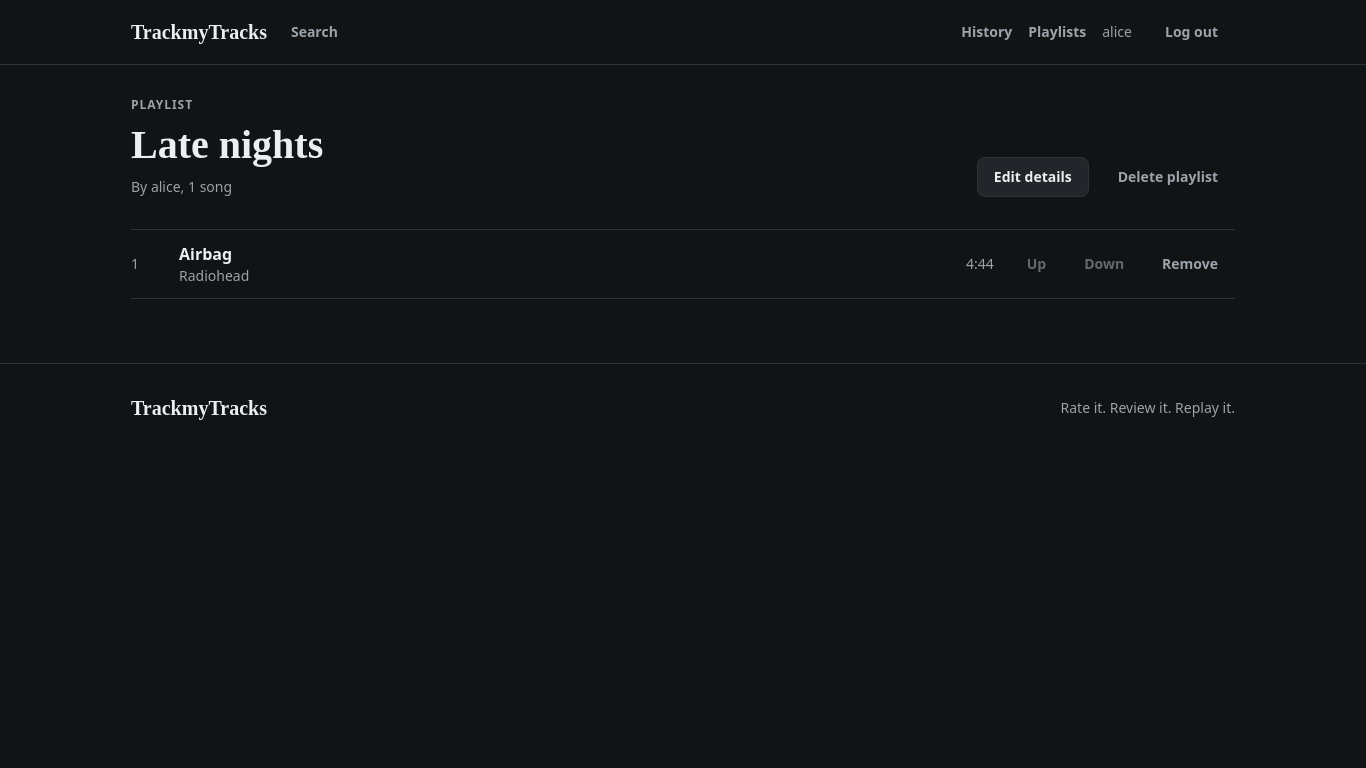
Test case: playlist page › edits the playlist details
Click the button "Edit details". click: (1033, 177)
box: [977,157,1089,197]
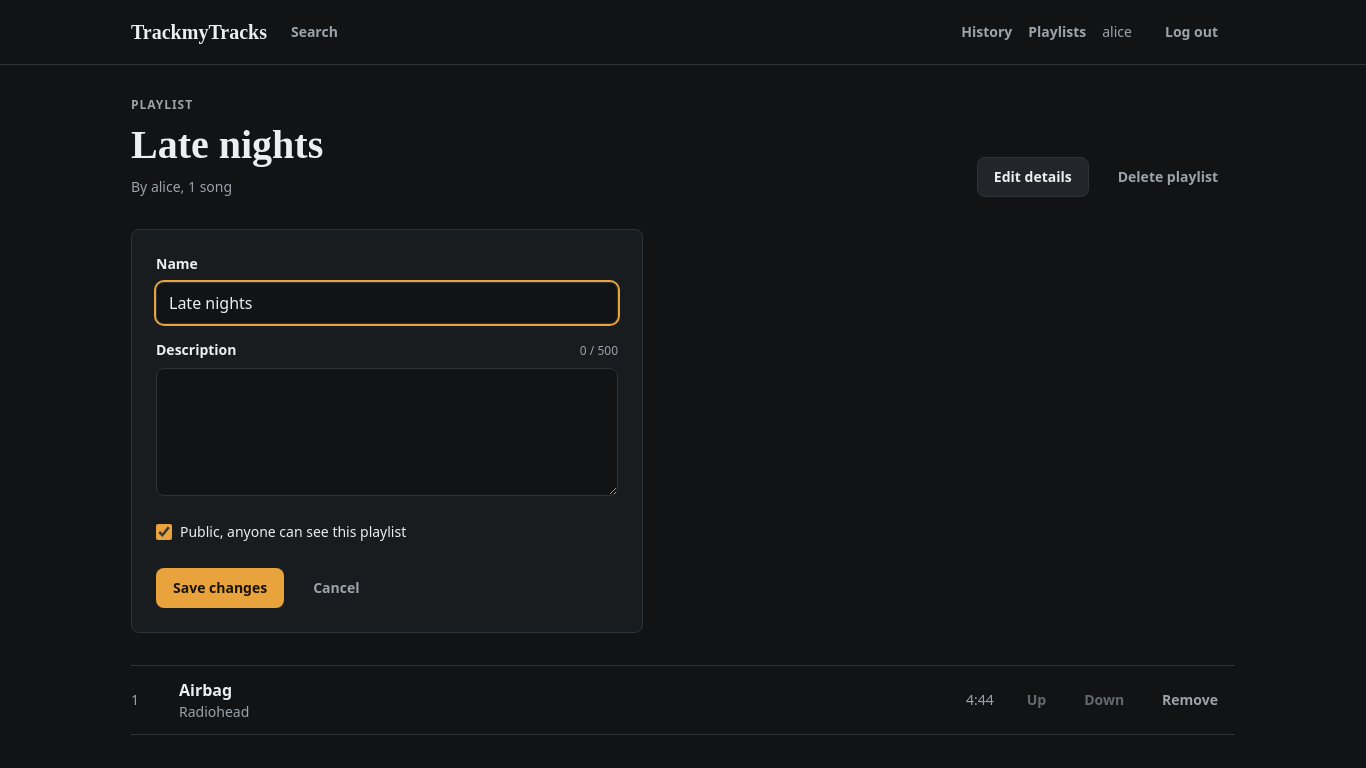
Replace the text in the field labelled "Name" with "Night drive". click: (387, 303)
box: [156,282,618,324]
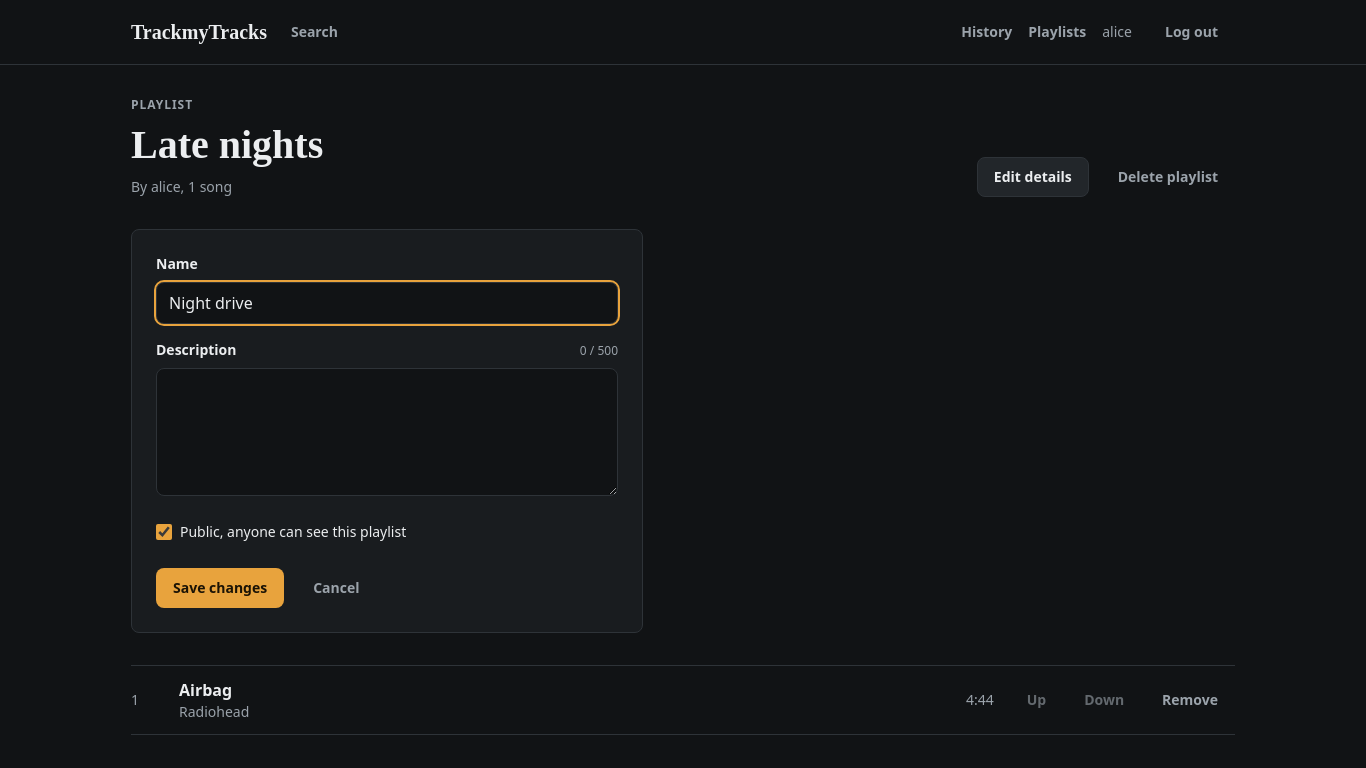
Click the button "Save changes". click: (220, 588)
box: [156,568,284,608]
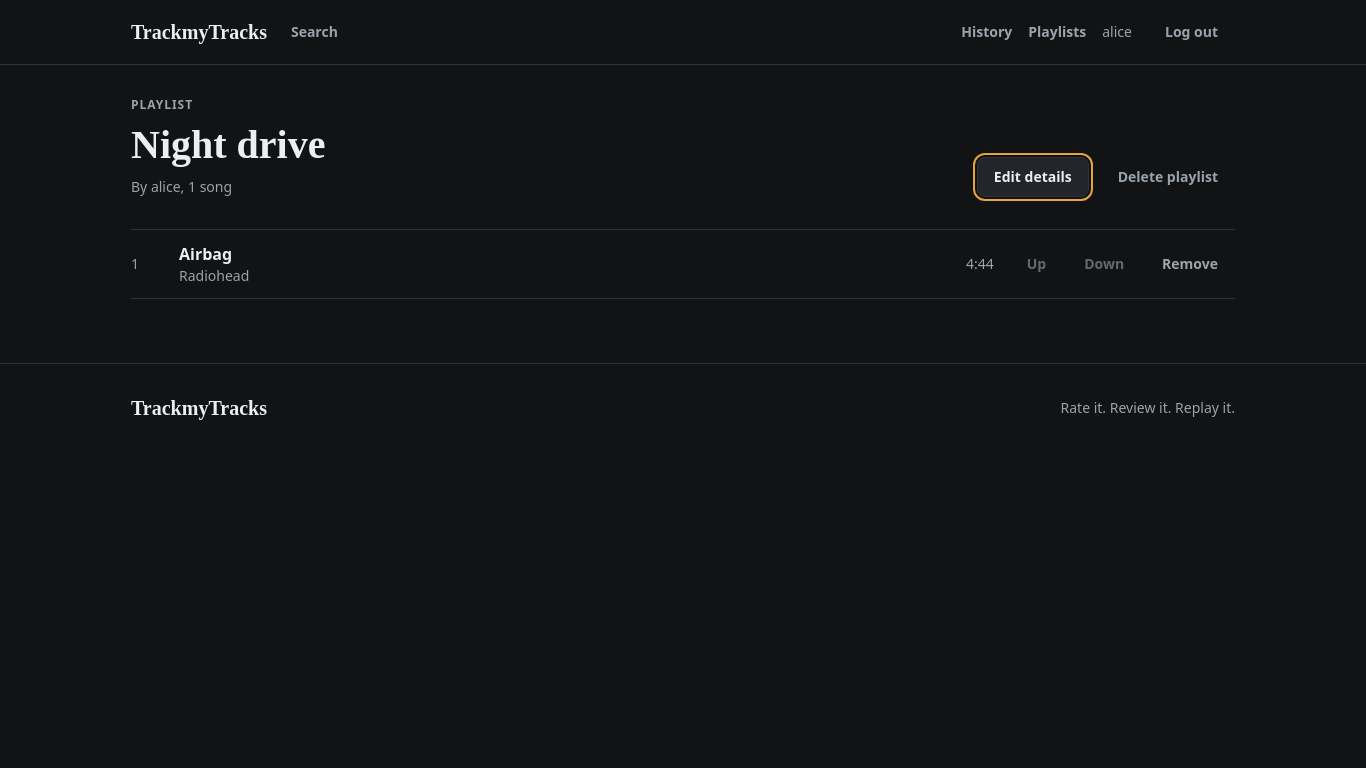
Expected: the heading "Night drive" is shown, [131,121,325,169]
